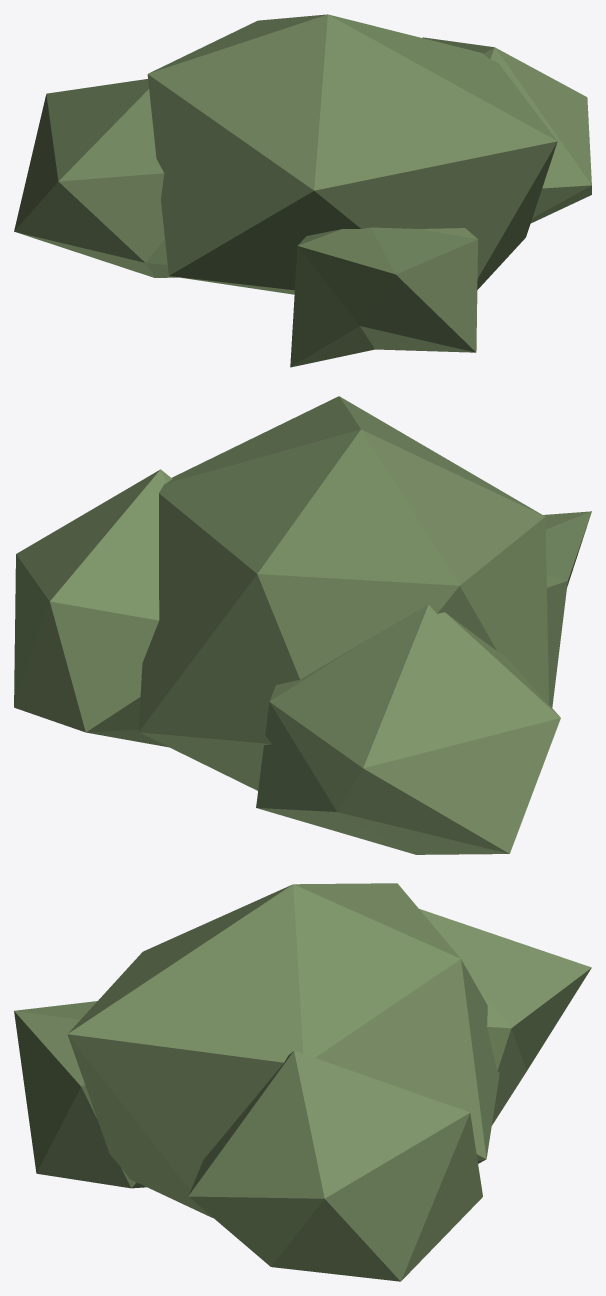
Rendered from bush_1.glb.
3 renders of one model, top to bottom at view 1: azimuth 30°, elevation 25°; view 2: azimuth 150°, elevation 25°; view 3: azimuth 270°, elevation 25°, orthographic. The views are drawn at different scales.
Visible parts, largest first — view 1: bush_1.001; view 2: bush_1.001; view 3: bush_1.001.
Boxes of the visible parts, x1=… form: bush_1.001: x1=14, y1=14, x2=591, y2=367; bush_1.001: x1=14, y1=396, x2=591, y2=854; bush_1.001: x1=14, y1=883, x2=591, y2=1281.
Size of the model in its own units: 2.84 by 1.73 by 2.7.
